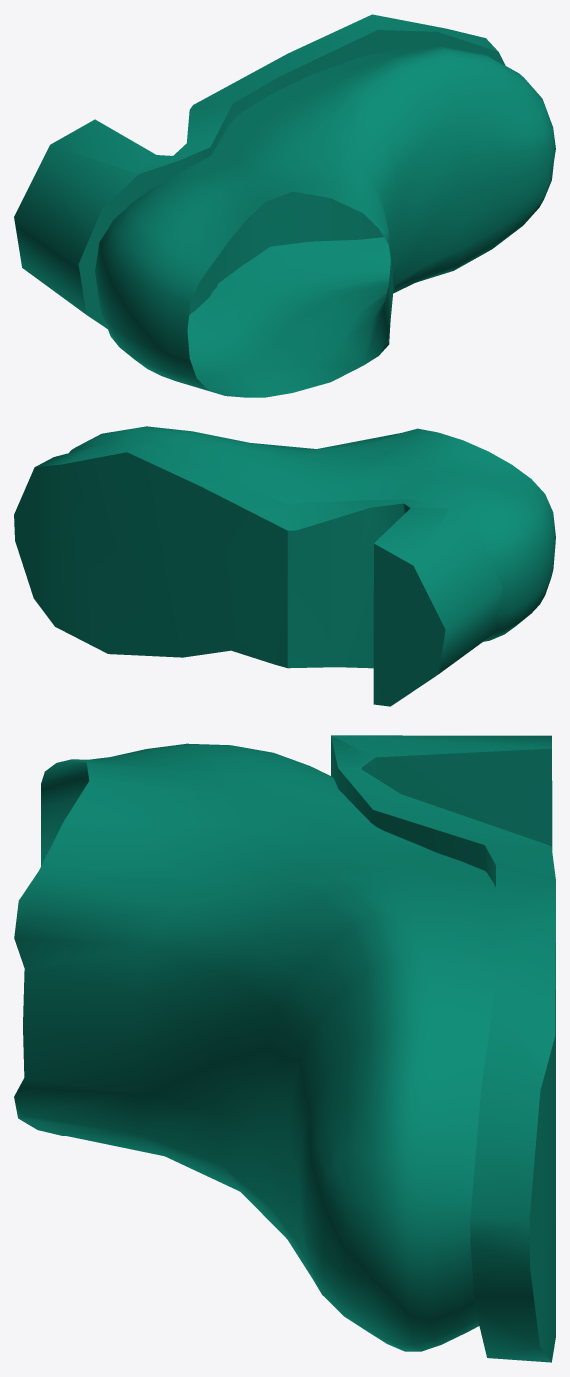
The model's file is platform.obj.
The picture shows the model from 3 angles, top to bottom: view 1: azimuth 30°, elevation 25°; view 2: azimuth 150°, elevation 25°; view 3: azimuth 270°, elevation 25°; orthographic projection. The views are drawn at different scales.
Visible parts, largest first — view 1: platform; view 2: platform; view 3: platform.
Boxes of the visible parts, <box> form: platform: <box>14,14,555,397</box>; platform: <box>14,426,555,706</box>; platform: <box>14,735,555,1362</box>.
Size of the model in its own units: 190 by 85.75 by 105.
